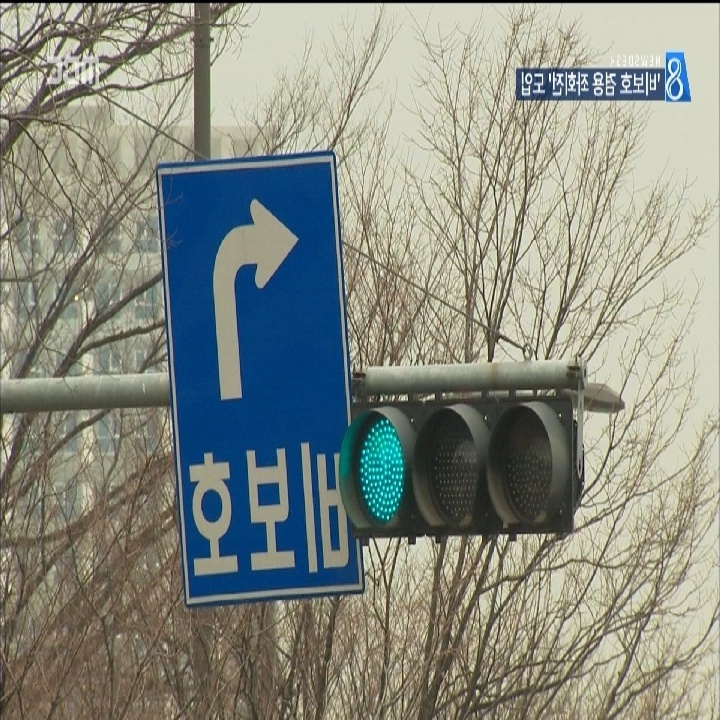right: (205, 188, 312, 403)
